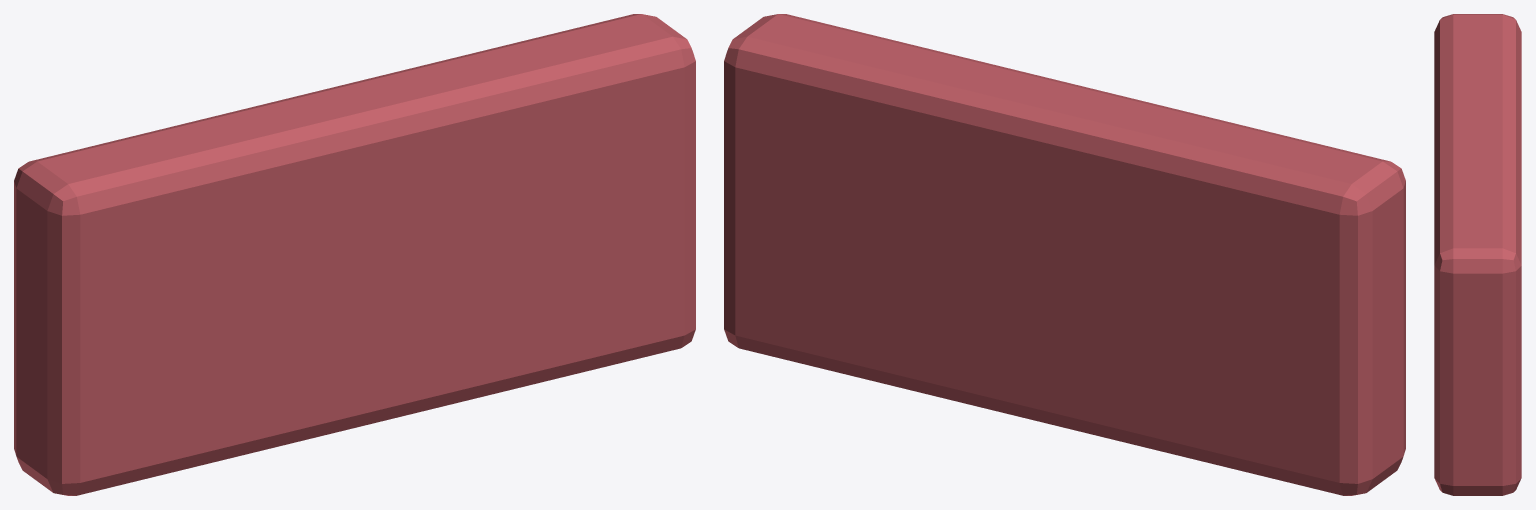
Rendered from wall-normal.glb.
The picture shows the model from 3 angles, left to right: view 1: azimuth 30°, elevation 25°; view 2: azimuth 150°, elevation 25°; view 3: azimuth 270°, elevation 25°; orthographic projection. The views are drawn at different scales.
Parts seen in each view (by area): view 1: mesh_wall_normal_body; view 2: mesh_wall_normal_body; view 3: mesh_wall_normal_body.
Part boxes in pixels (bbox=[...]): mesh_wall_normal_body: bbox=[14, 14, 695, 495]; mesh_wall_normal_body: bbox=[724, 14, 1405, 495]; mesh_wall_normal_body: bbox=[1434, 14, 1521, 495].
Size of the model in its own units: 1.08 by 0.5 by 0.16.
